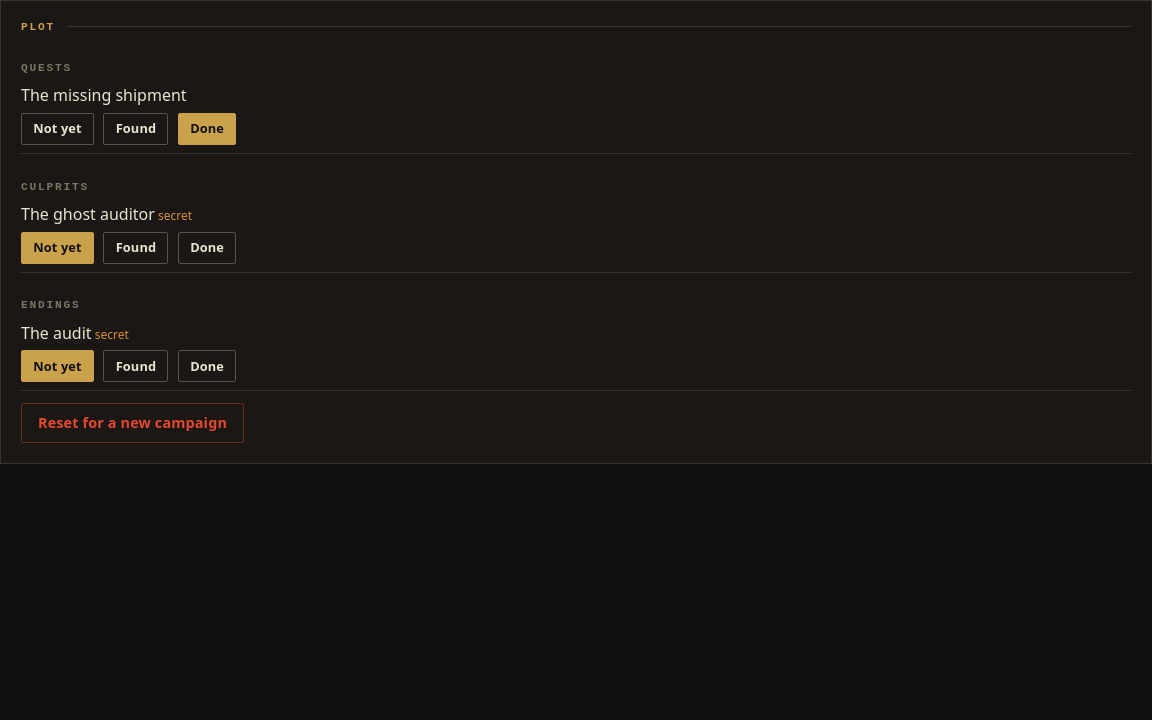
Test: PlotPanel reset › keeps the plot and says so when resetting fails
Expected: the list item with test id "plot-quest/missing-shipment" is shown, [21,83,1131,154]
Click the button with test id "plot-reset". click: (132, 423)
box: [21,403,244,443]
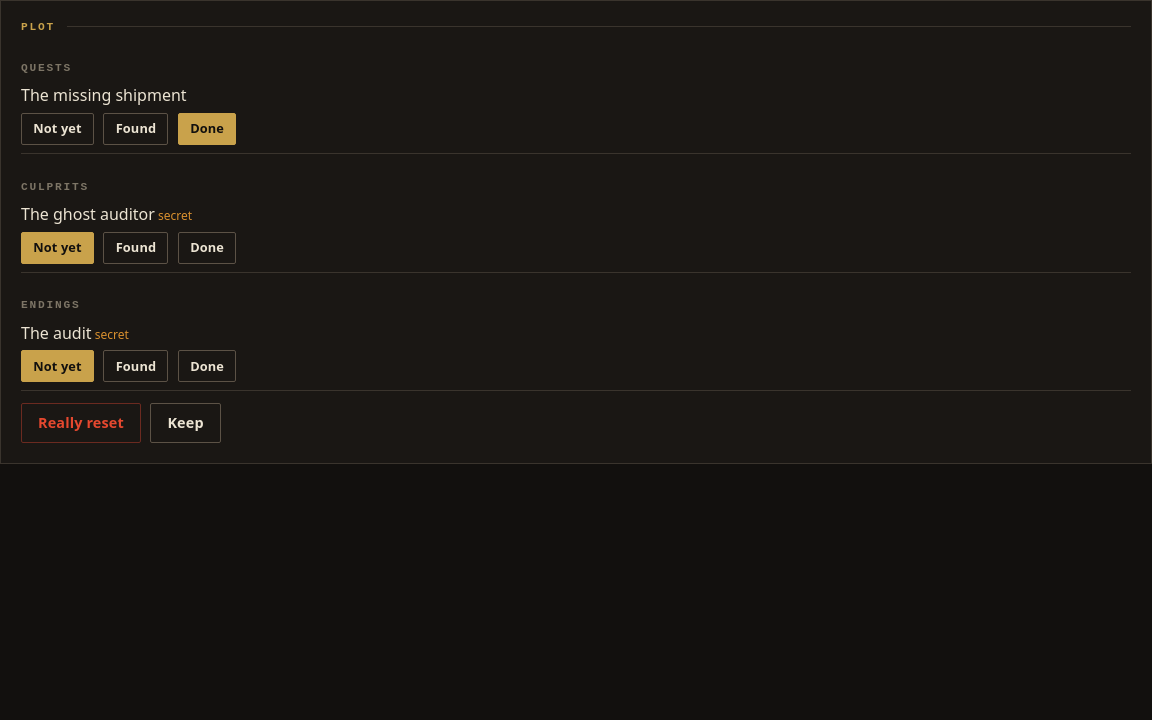
Click the button with test id "plot-reset-confirm". click: (81, 423)
box: [21,403,141,443]
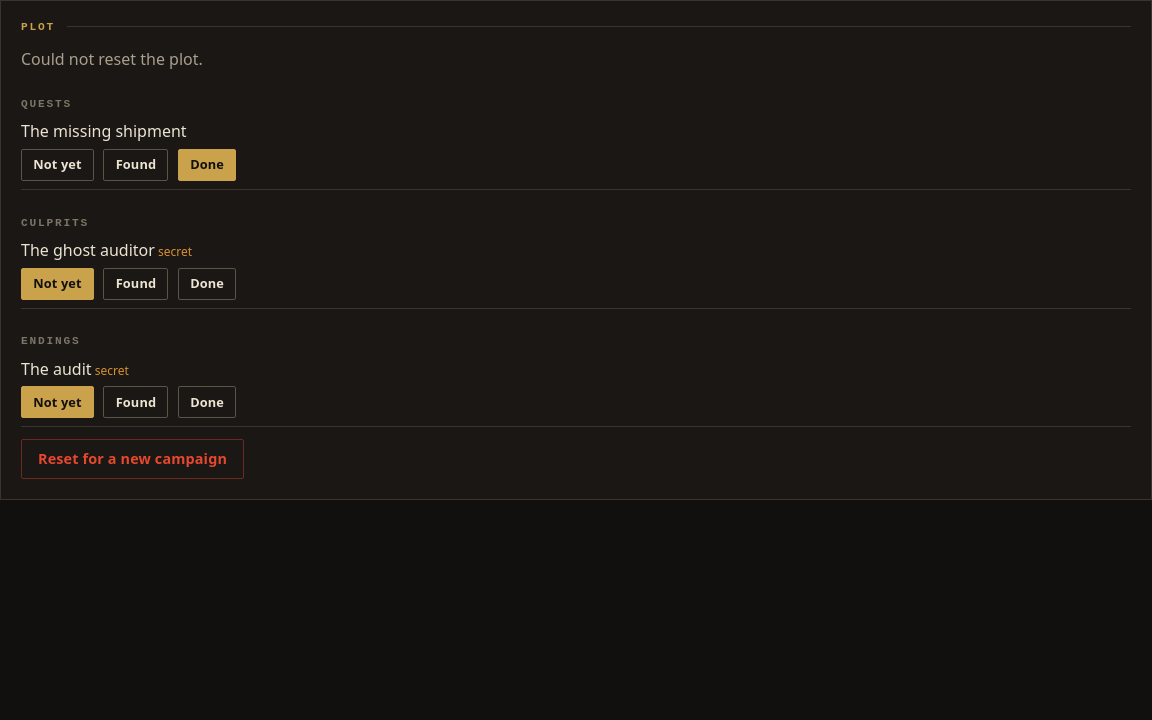
Expected: the text with test id "plot-error" shows "Could not reset", [21,48,203,70]
